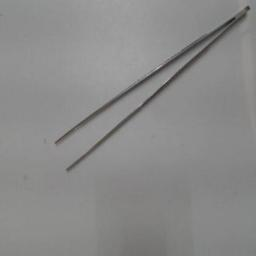DeBakey Dissector: (47, 2, 253, 186)
